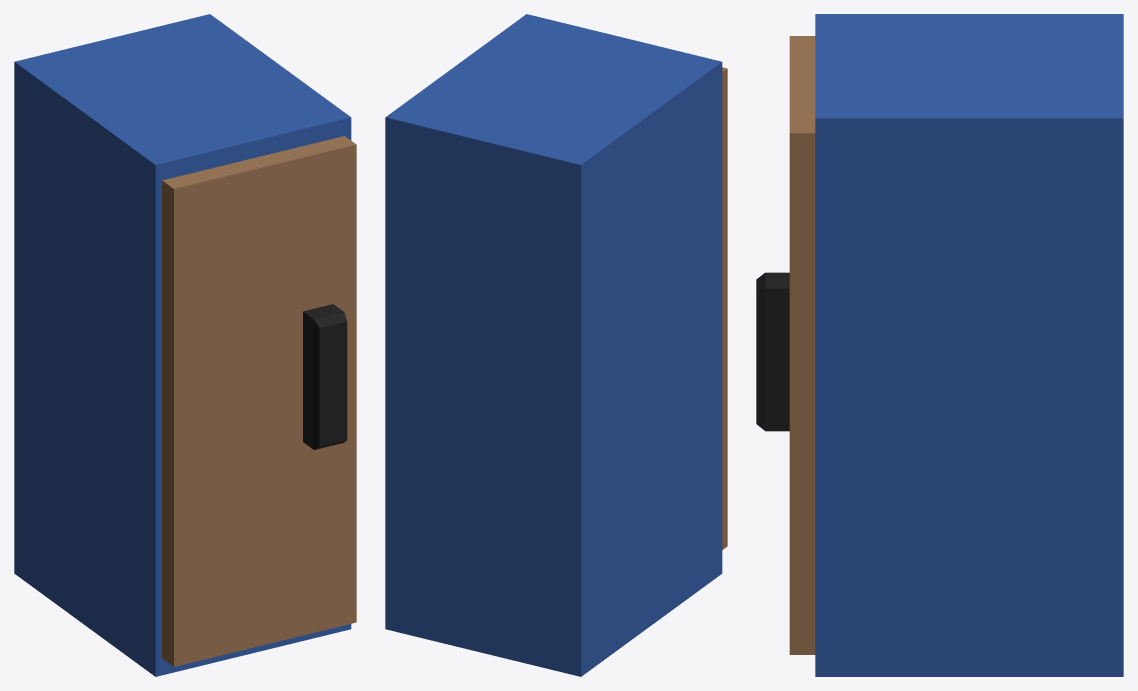
The model's file is fridge.fbx.
3 renders of one model, left to right at view 1: azimuth 30°, elevation 25°; view 2: azimuth 150°, elevation 25°; view 3: azimuth 270°, elevation 25°, orthographic. The views are drawn at different scales.
Parts seen in each view (by area): view 1: Fridge; view 2: Fridge; view 3: Fridge.
Boxes of the visible parts, x1,y1,x2,y2 form: Fridge: (14,14,356,676); Fridge: (385,14,727,676); Fridge: (756,14,1123,676).
Size of the model in its own units: 80 by 200 by 119.
